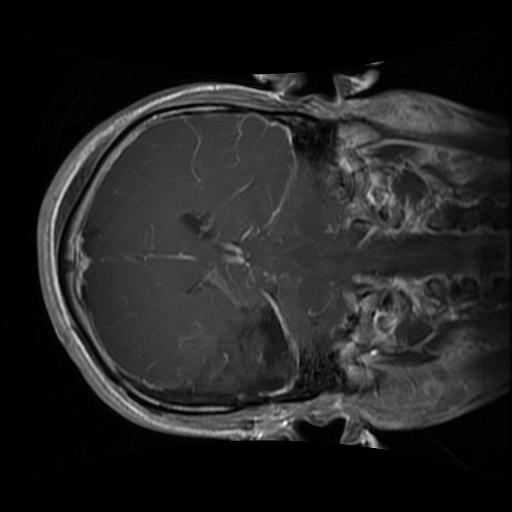glioma: (189, 299, 297, 400)
